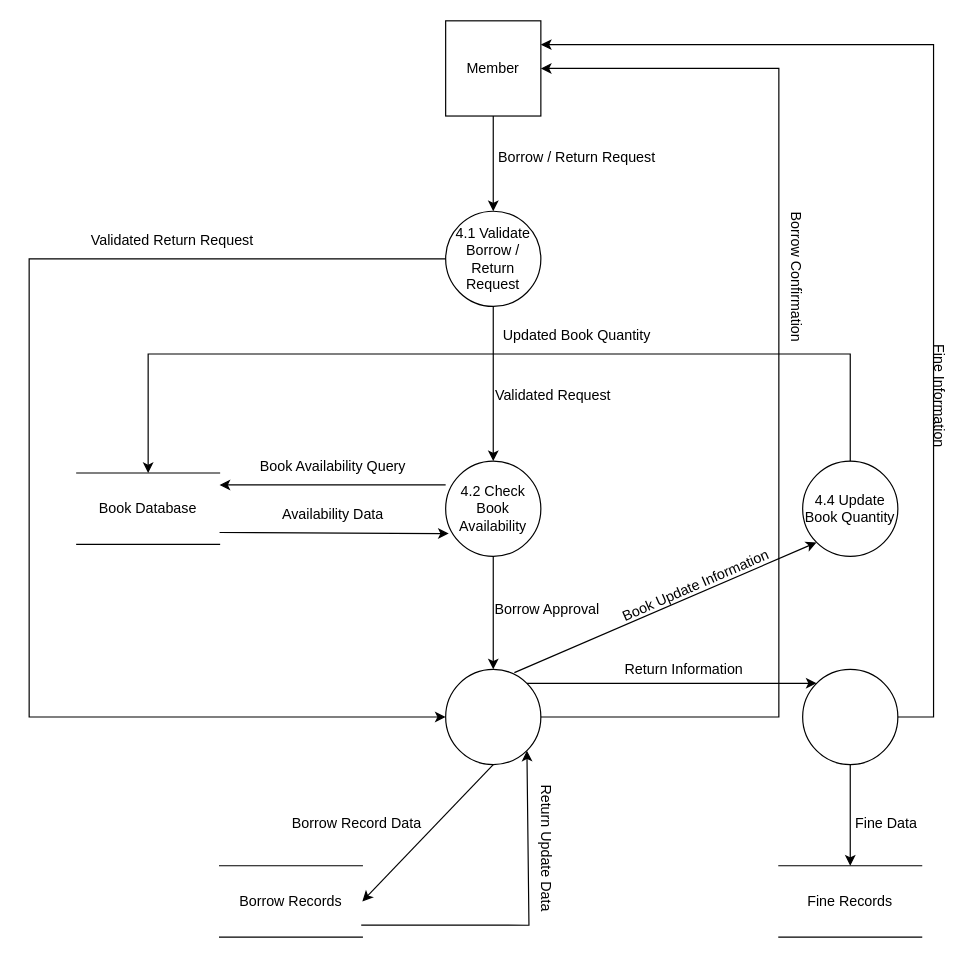
The diagram is 978 pixels wide and 958 high, and some of its shapes have lost their labels. Each missing label, with the centre of its shape:
4.3 Create / Update Borrow Record: point (492, 716)
4.5 Calculate Fine: point (849, 716)
